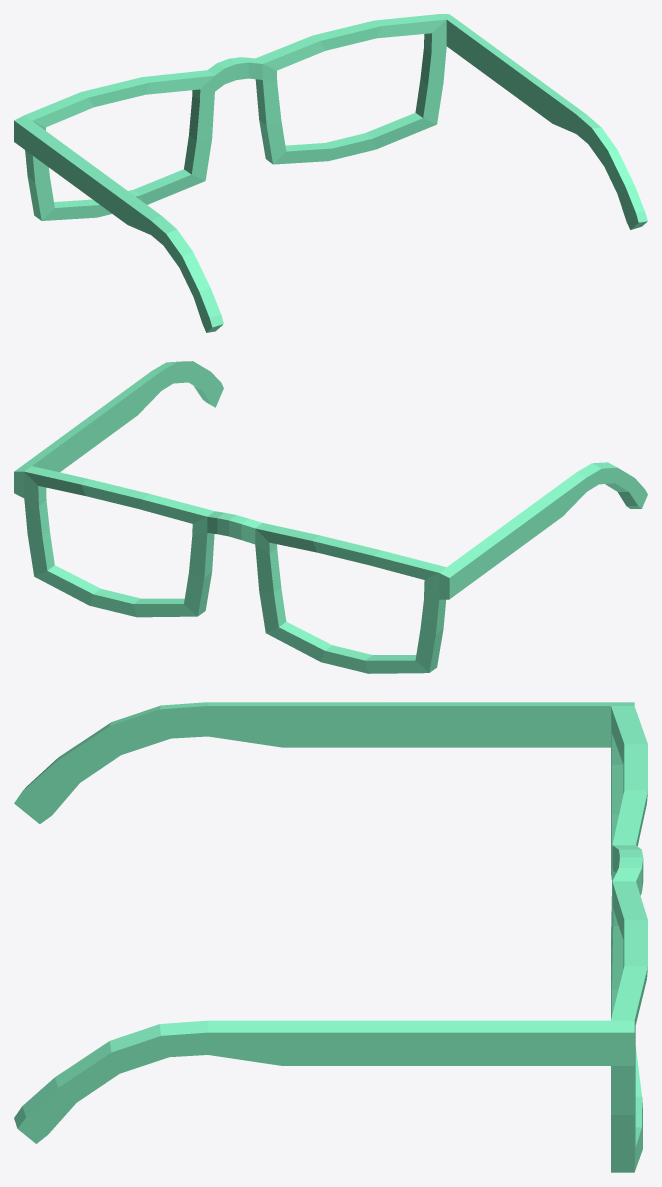
File: sunglasseslightgreen.fbx
The picture shows the model from 3 angles, top to bottom: view 1: azimuth 30°, elevation 25°; view 2: azimuth 150°, elevation 25°; view 3: azimuth 270°, elevation 25°; orthographic projection. The views are drawn at different scales.
Parts seen in each view (by area): view 1: Glasses_01_Plane.000; view 2: Glasses_01_Plane.000; view 3: Glasses_01_Plane.000.
Boxes of the visible parts, bbox=[...] form: Glasses_01_Plane.000: bbox=[14, 14, 647, 332]; Glasses_01_Plane.000: bbox=[14, 361, 647, 673]; Glasses_01_Plane.000: bbox=[14, 702, 647, 1172].
Bounding box in the file's own units: 14.87 × 3.94 × 12.06.
